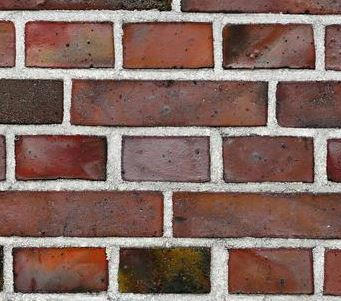brick: (69, 76, 269, 130), (171, 191, 341, 240), (1, 189, 165, 239), (220, 20, 320, 72), (120, 19, 217, 71), (12, 244, 110, 295), (117, 244, 214, 295), (12, 133, 110, 183), (23, 19, 116, 71), (221, 135, 317, 185), (224, 246, 318, 297), (119, 134, 213, 184), (275, 78, 341, 130), (1, 76, 66, 127)
